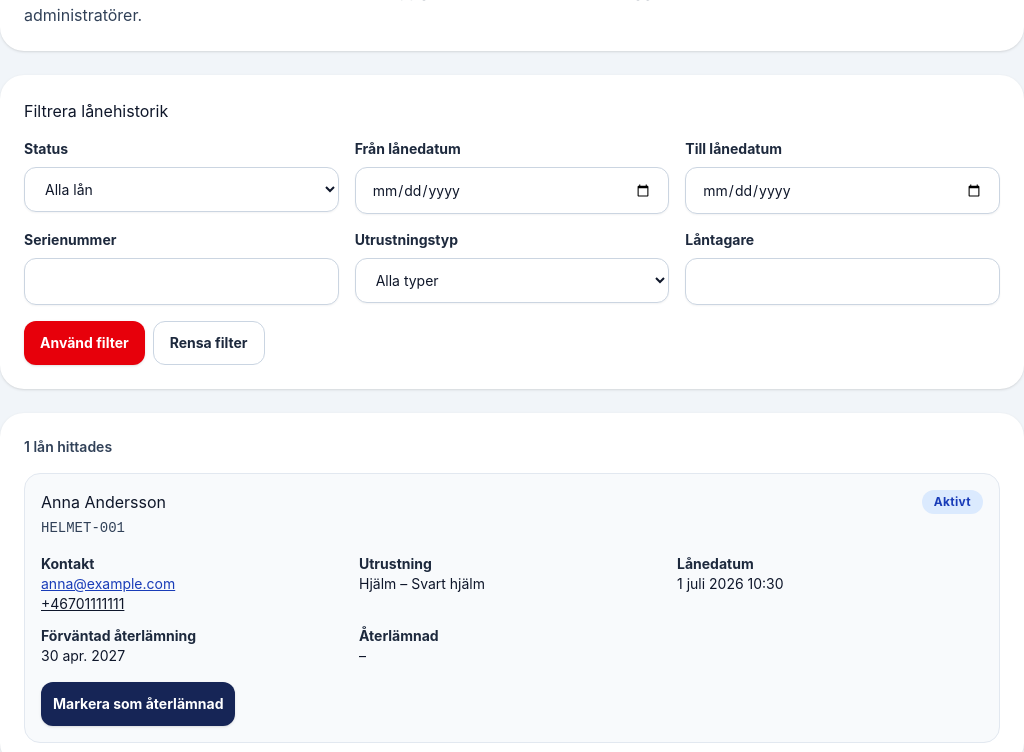
it: ActiveLoansPage › returns loan and updates visible result
This screenshot has width=1024, height=752.
(page scrolled)
Expected: the heading "Anna Andersson" is shown, [41,490,166,514]
Click the button "Markera som återlämnad".
click(138, 704)  # box [41,682,236,726]
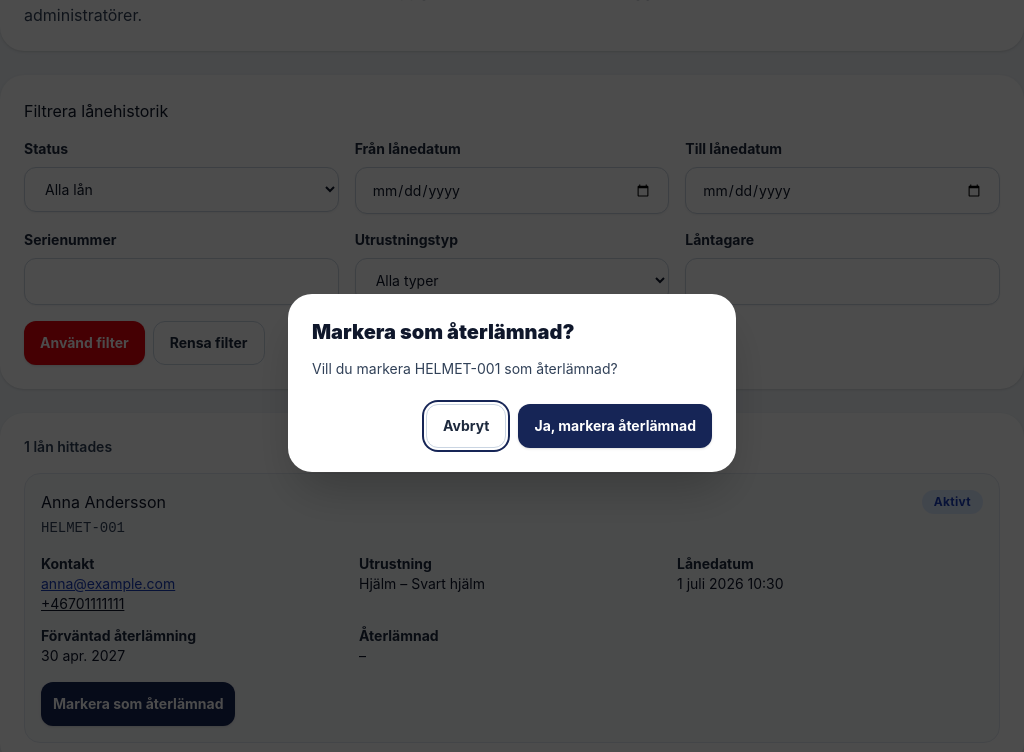
Expected: the dialog "Markera som återlämnad" shows "HELMET-001", [312,360,618,377]
Click the button "Ja, markera återlämnad".
click(615, 426)  # box [518,404,712,448]
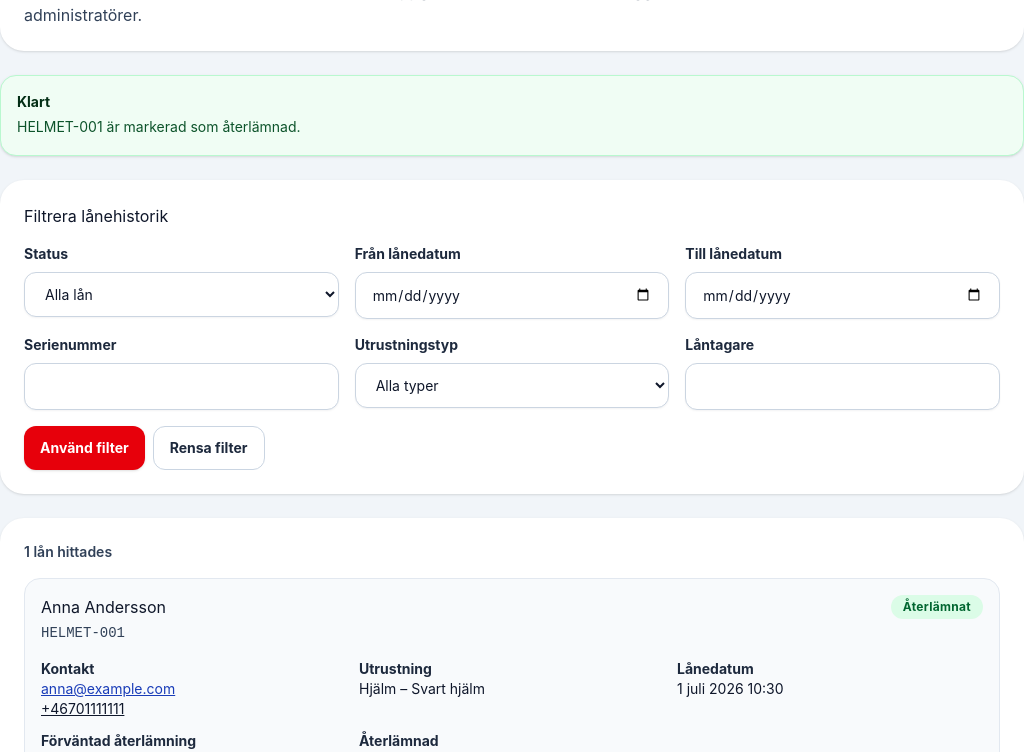
Expected: the message "Klart HELMET-001 är markerad som återlämnad." is shown, [0,75,1023,156]
Expected: the text "Återlämnat" is shown, [891,595,983,619]
Expected: the button "Markera som återlämnad" is gone
